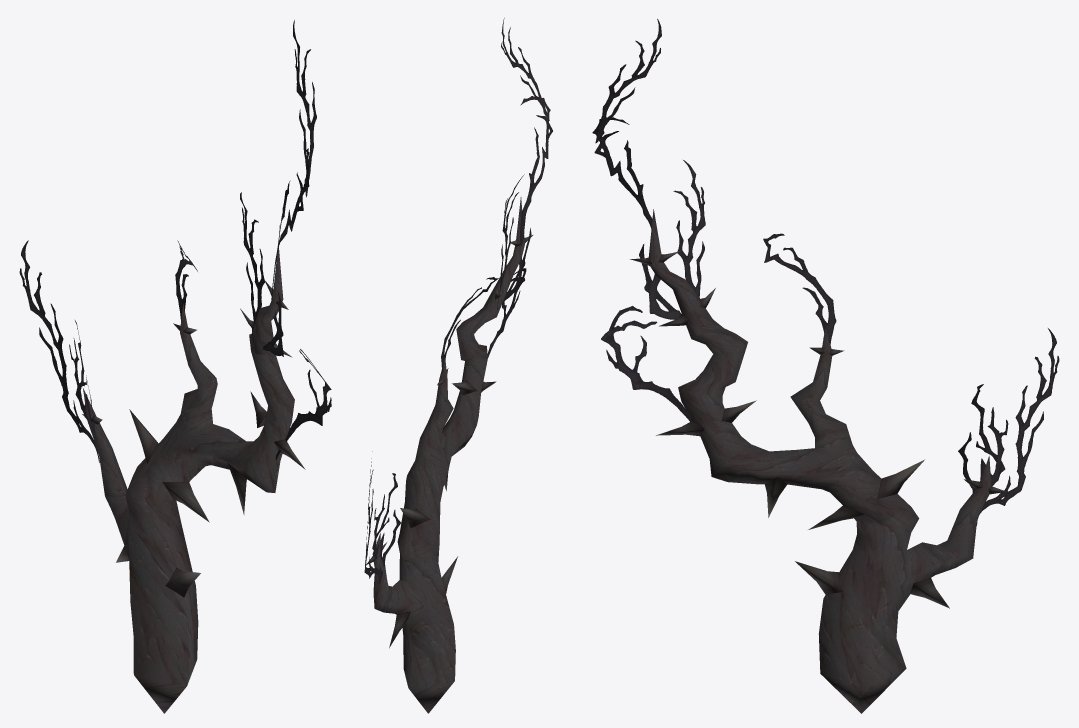
3 renders of one model, left to right at view 1: azimuth 30°, elevation 25°; view 2: azimuth 150°, elevation 25°; view 3: azimuth 270°, elevation 25°, orthographic. The views are drawn at different scales.
Bounding box in the file's own units: 5.52 × 47.98 × 29.47.
Materials: 2 (2 with a texture image).
